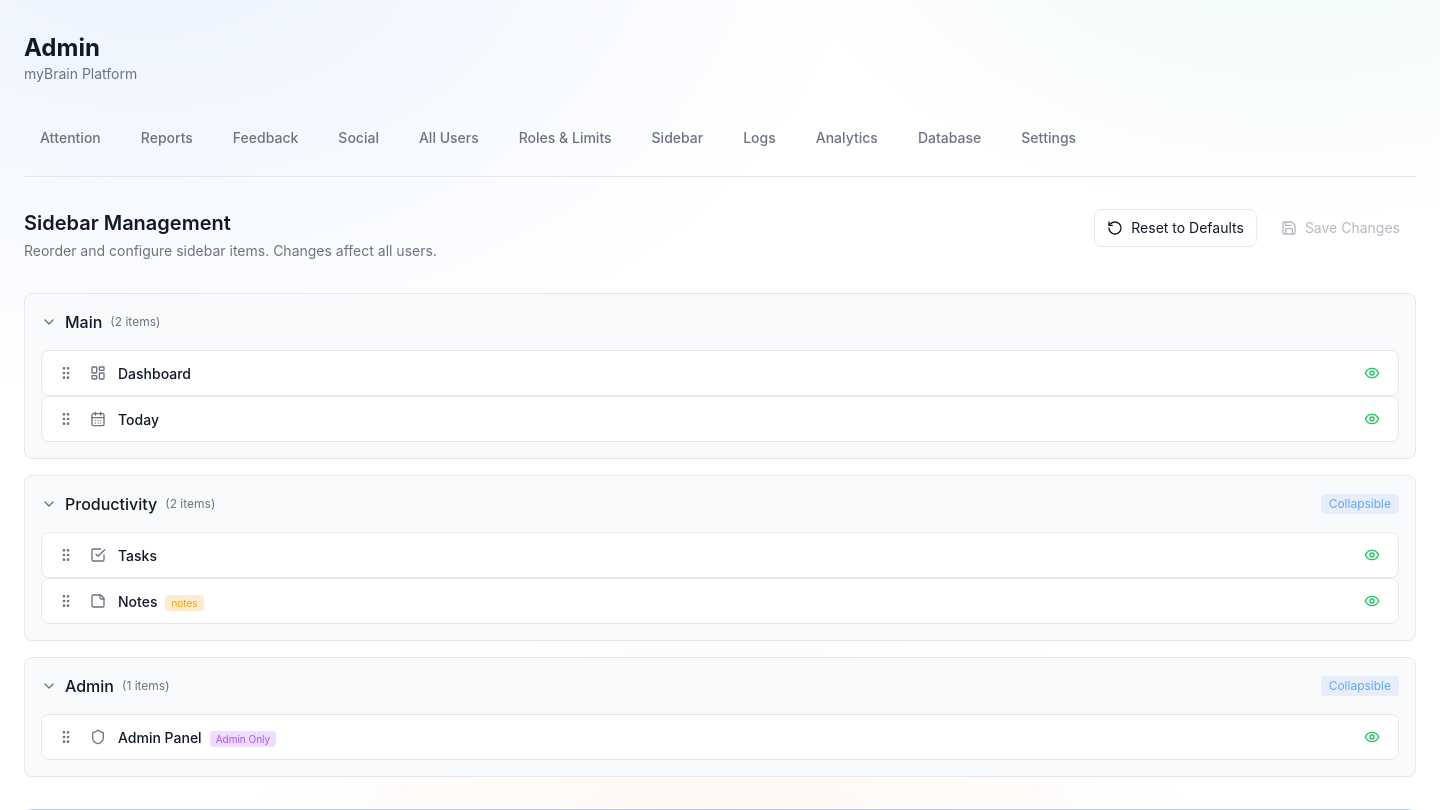
Test case: AdminSidebarPage › Visibility Toggle › can toggle item visibility
// Find the first hide button and click it
Click the button titled "Hide item" in the row of "Dashboard": (1372, 373) [1358, 359, 1386, 387]
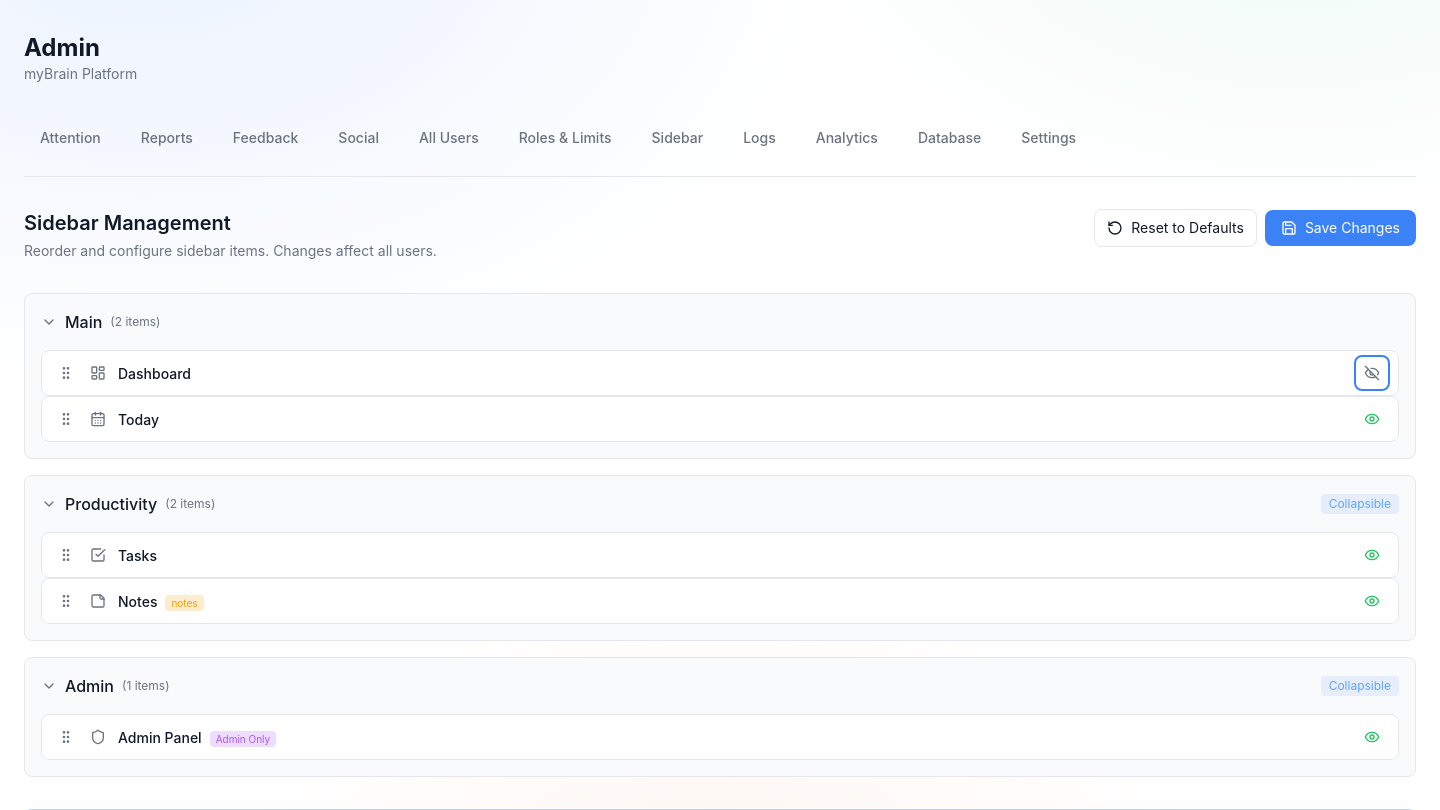
Now the button titled "Show item" is shown, box [1358, 359, 1386, 387]
